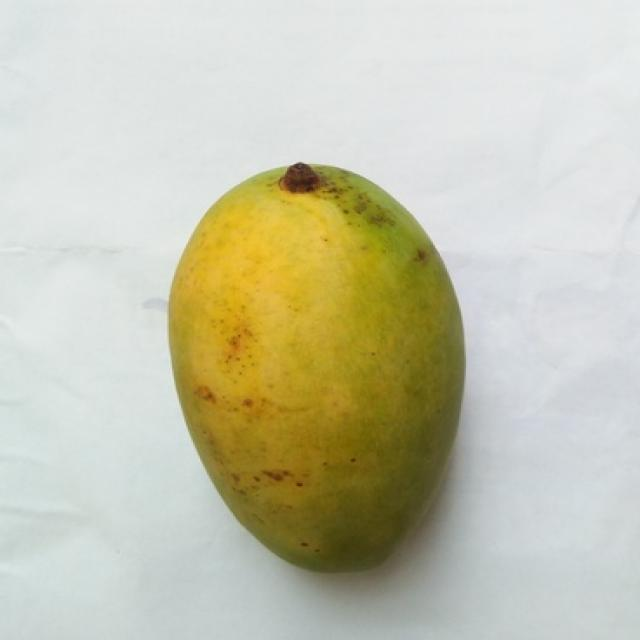Mango: (169, 165, 461, 570)
